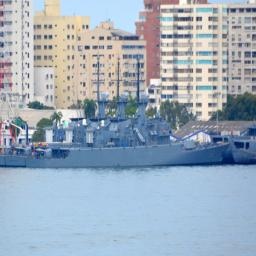Fragata: (9, 60, 232, 173)
